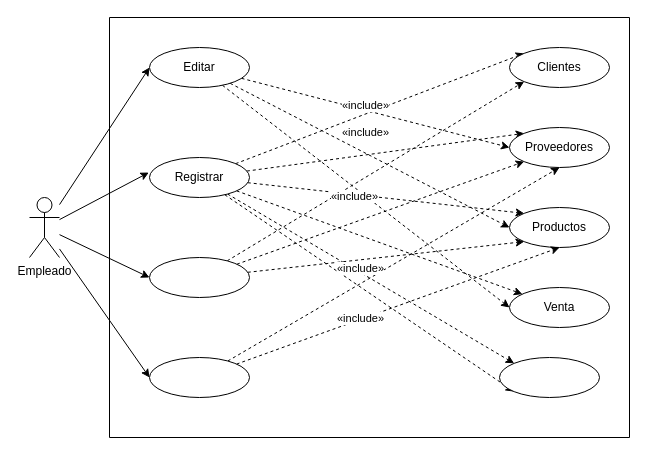
The diagram is 647 pixels wide and 455 high, and some of its shapes have lost their labels. Each missing label, with the centre of its shape:
Consultar: point 199,277
Devolucion: point 549,377
Eliminar: point 199,377
